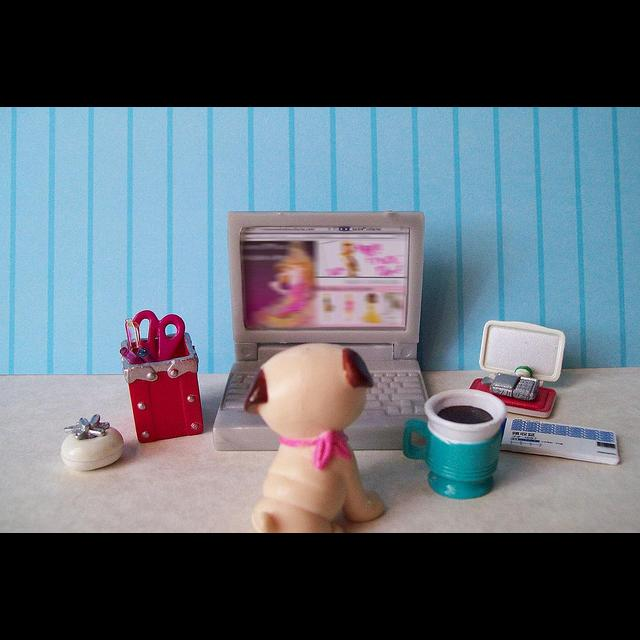Laptop: (213, 211, 430, 452)
